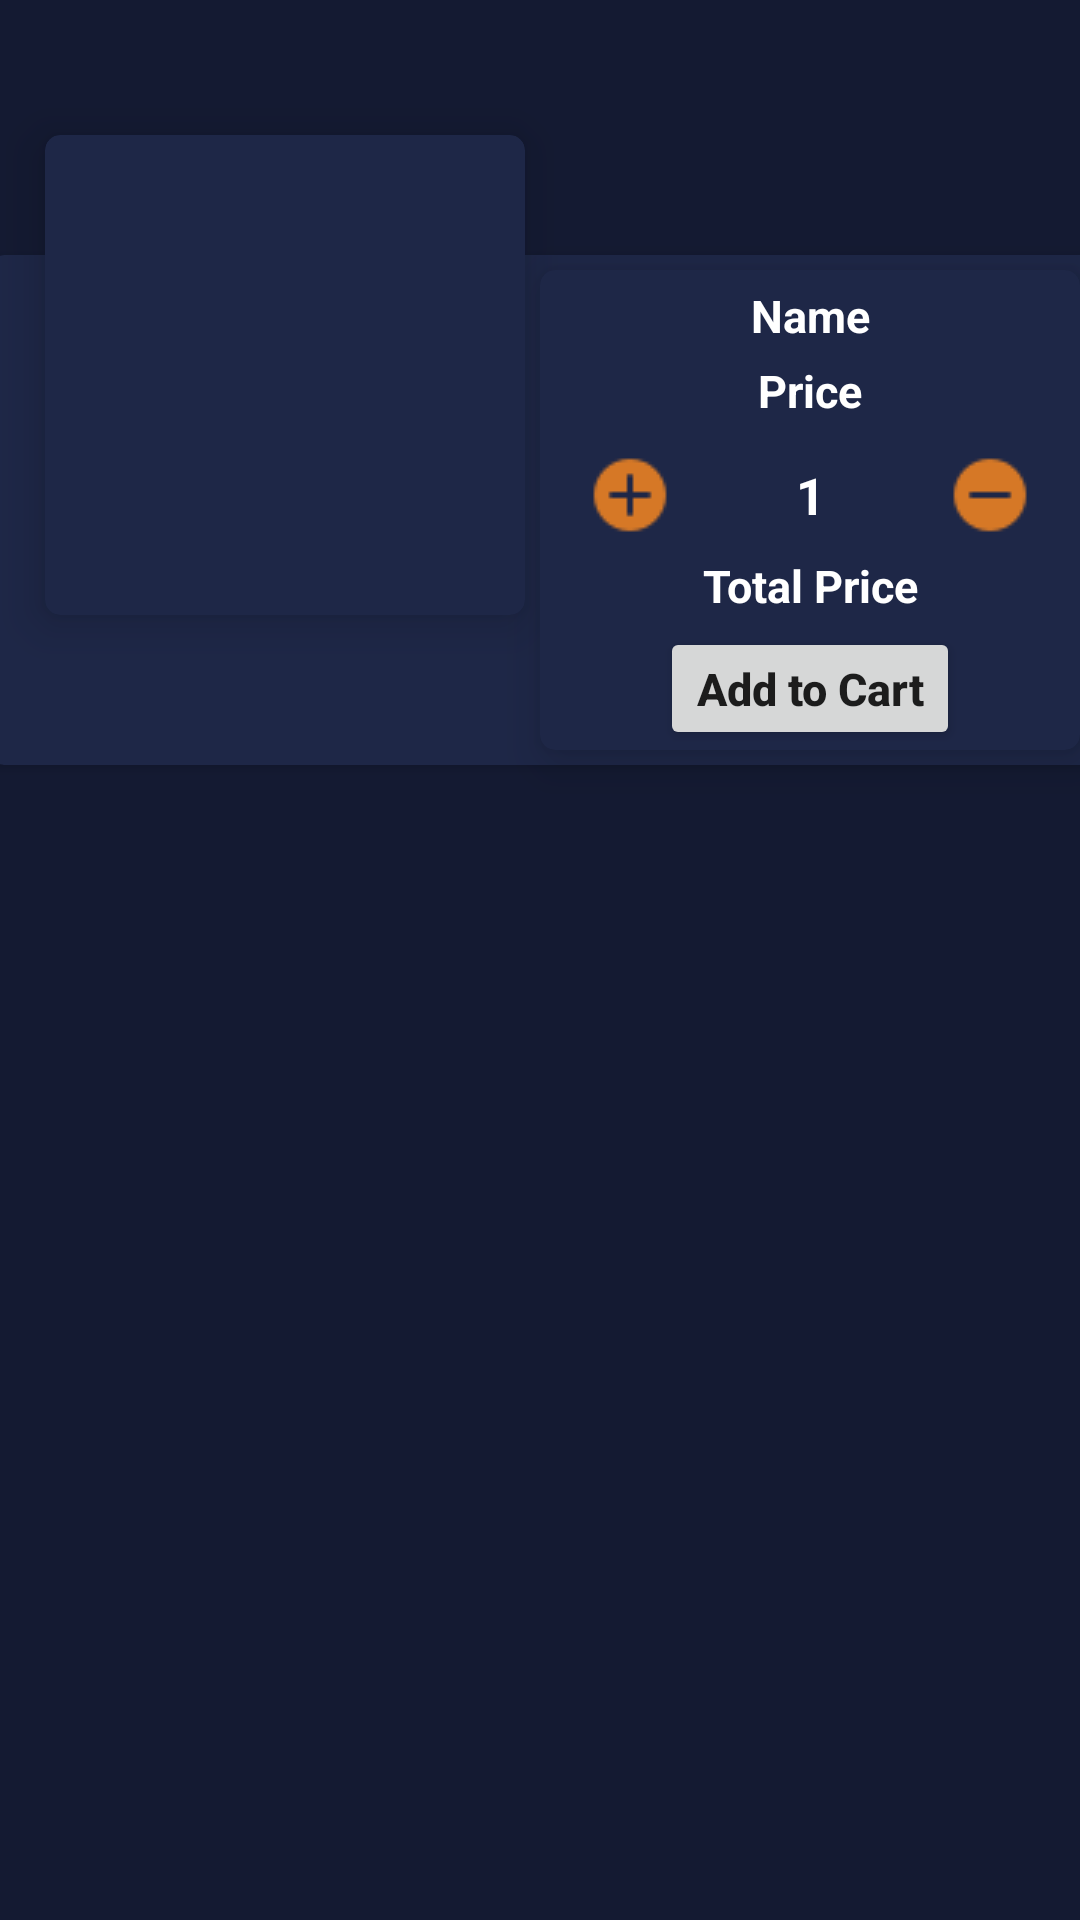

Named icons in this screenshot (1080px×1920px) and their bounding boxes, (x1, y1, x2, y2):
circleminus: (953, 458, 1027, 532)
pluscircle: (593, 458, 667, 532)
